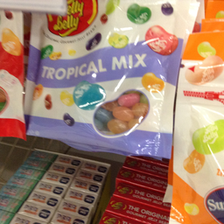candy: (27, 1, 177, 155), (169, 34, 224, 222)
